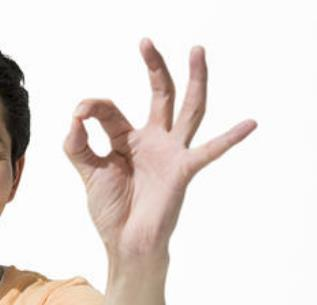left: (62, 38, 259, 255)
